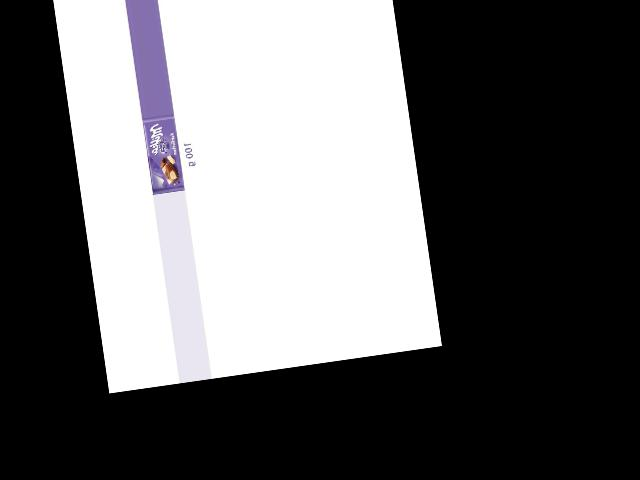chocolate: (141, 113, 186, 195)
